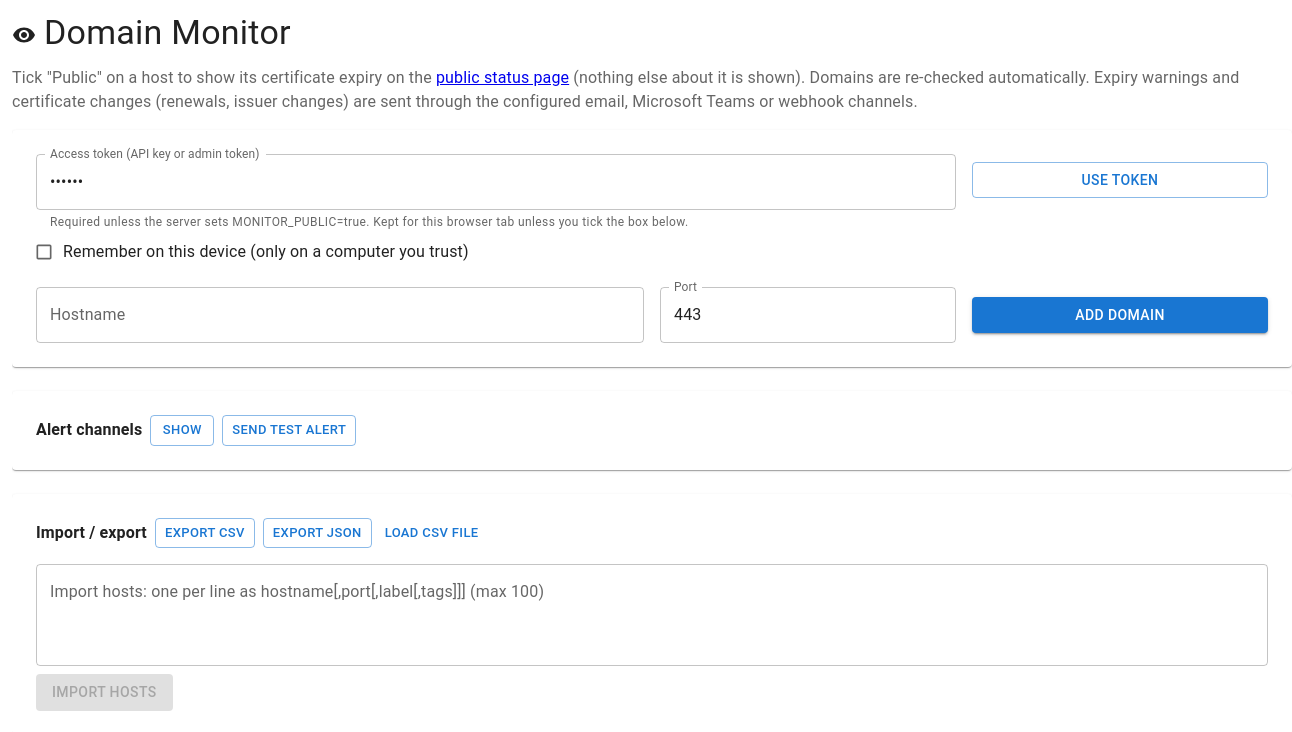
Scenario: explains that the admin token is needed for the test alert
Click the button "Send test alert". click: (289, 430)
box: [222,415,356,446]
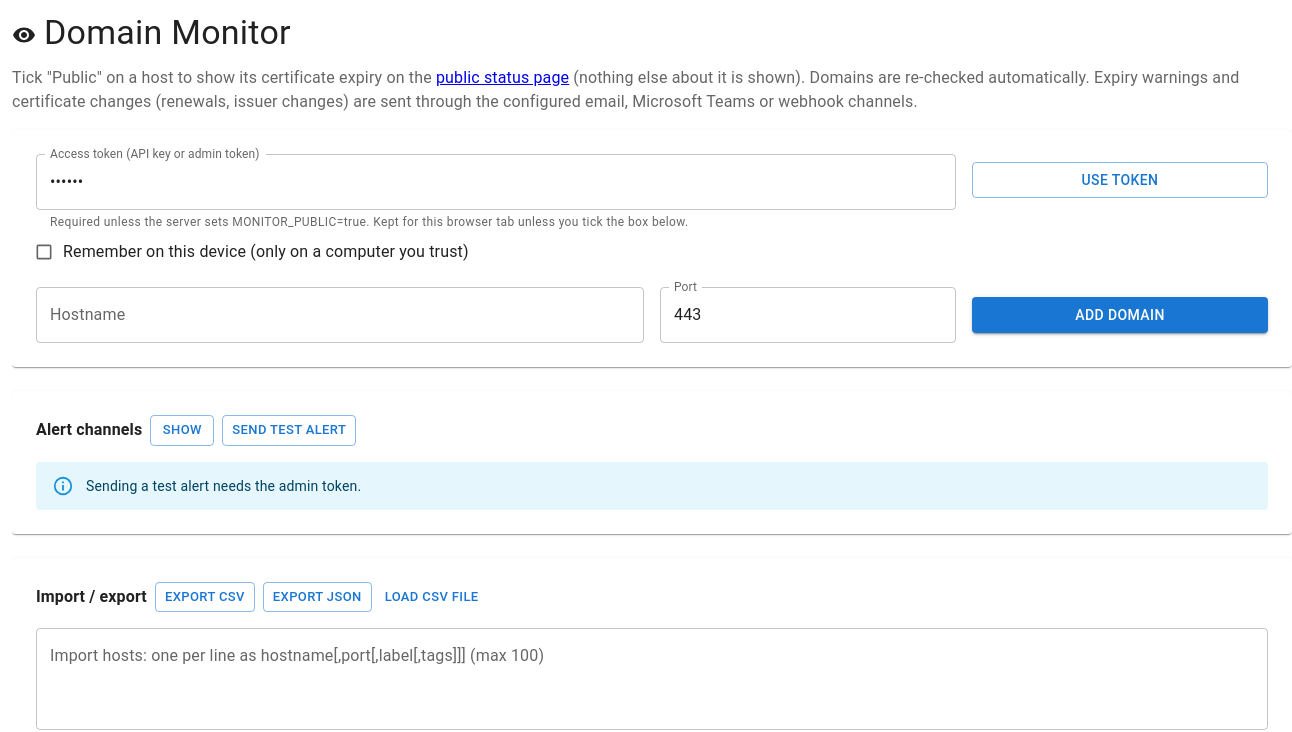
Expected: the text "Sending a test alert needs the admin token." is shown, [86,478,361,494]
